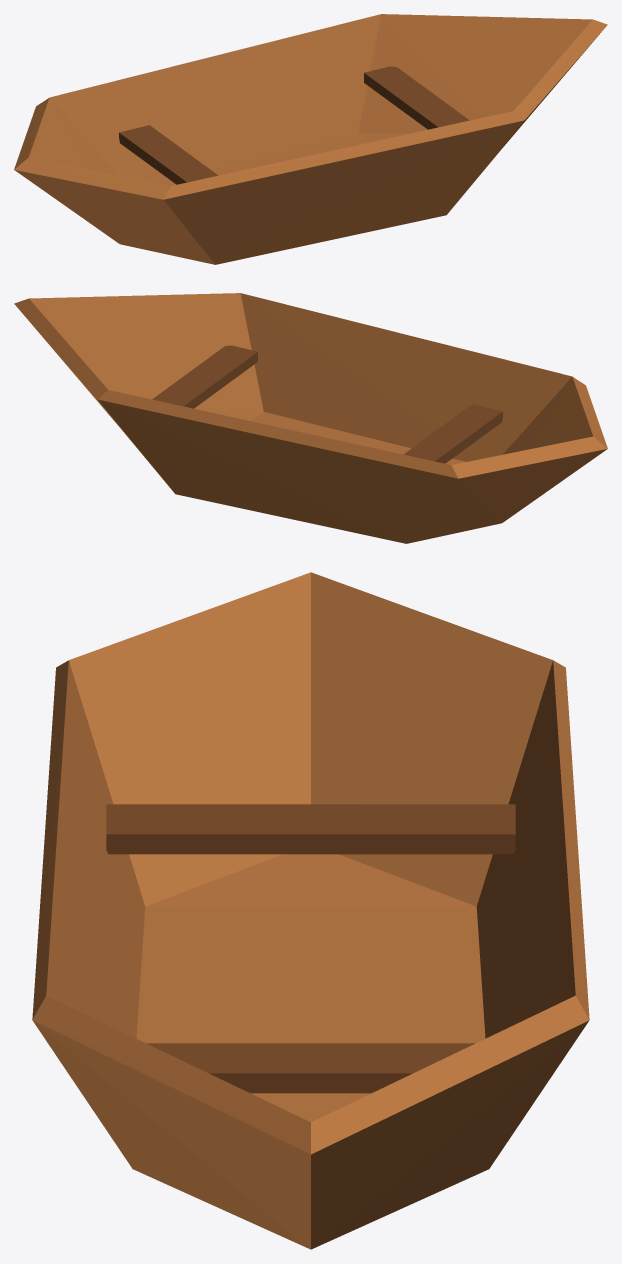
Rendered from small_boat_rowing.fbx.
3 views of the same model, one above another, from view 1: azimuth 30°, elevation 25°; view 2: azimuth 150°, elevation 25°; view 3: azimuth 270°, elevation 25° (orthographic). The views are drawn at different scales.
Visible parts, largest first — view 1: small_boat_rowing; view 2: small_boat_rowing; view 3: small_boat_rowing.
Part boxes in pixels (left/top/right/bottom): small_boat_rowing: left=14, top=14, right=607, bottom=264; small_boat_rowing: left=14, top=293, right=607, bottom=543; small_boat_rowing: left=32, top=572, right=589, bottom=1249.
Size of the model in its own units: 3.2 by 0.6 by 1.3.
